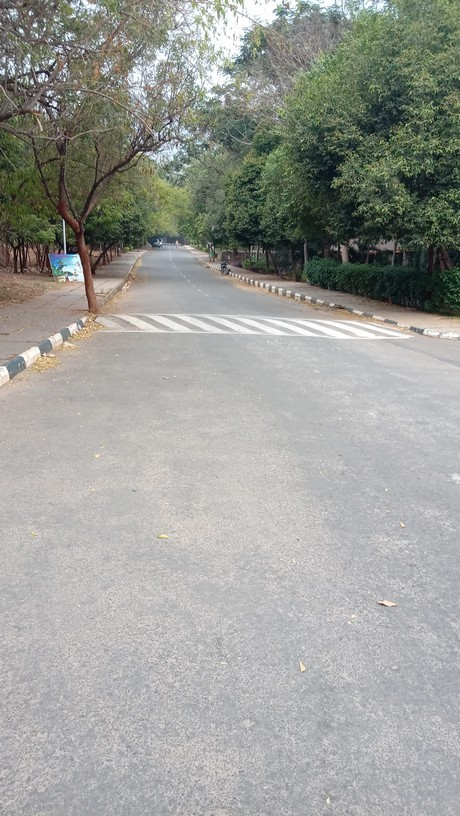bump: (86, 310, 414, 341)
